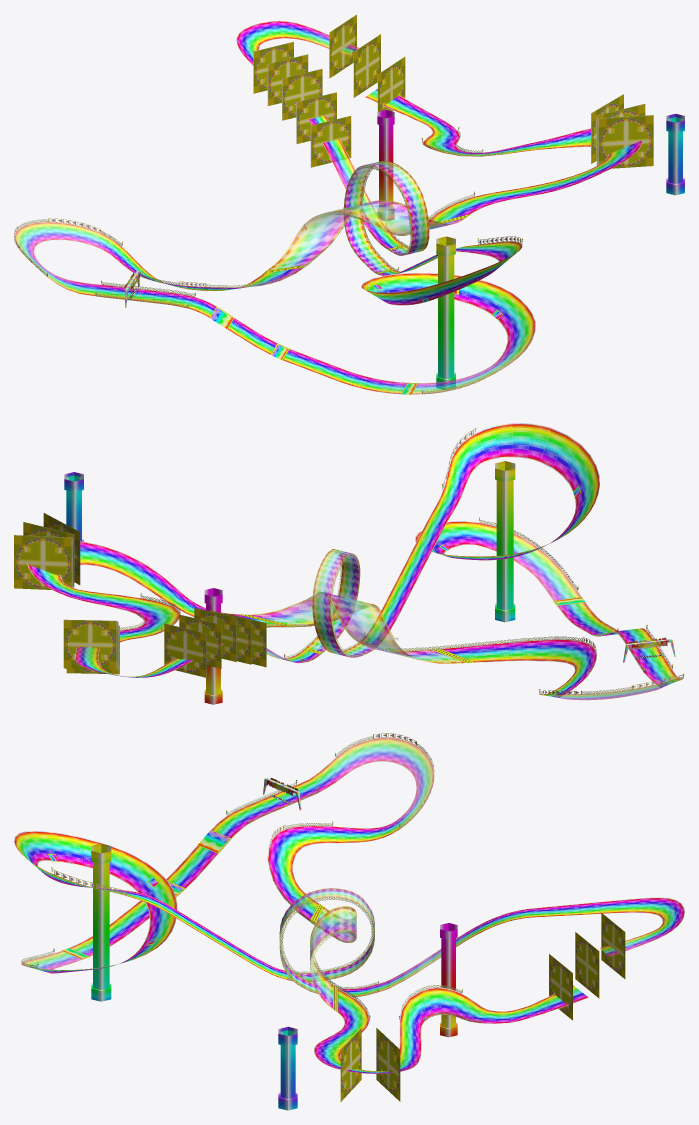
The model's file is new_ds_rainbow_road.dae.
3 views of the same model, one above another, from view 1: azimuth 30°, elevation 25°; view 2: azimuth 150°, elevation 25°; view 3: azimuth 270°, elevation 25° (orthographic). The views are drawn at different scales.
Parts seen in each view (by area): view 1: track, rings, loop, roll, railing, green_pipe, red_pipe, blue_pipe, boost; view 2: track, rings, roll, loop, green_pipe, railing, red_pipe, blue_pipe, arrows; view 3: track, rings, railing, green_pipe, roll, loop, blue_pipe, red_pipe, boost, arrows.
Part boxes in pixels (box(x1,y1,x2,y2)): track: box(14, 20, 642, 394); rings: box(253, 14, 653, 168); loop: box(344, 161, 429, 272); roll: box(267, 200, 464, 270); railing: box(18, 129, 532, 394); green_pipe: box(436, 236, 455, 389); red_pipe: box(377, 110, 394, 221); blue_pipe: box(666, 113, 684, 195); boost: box(210, 284, 501, 394); track: box(27, 423, 683, 700); rings: box(14, 513, 266, 677); roll: box(249, 593, 465, 663); loop: box(303, 549, 374, 657); green_pipe: box(495, 461, 515, 622); railing: box(120, 520, 683, 694); red_pipe: box(204, 588, 222, 704); blue_pipe: box(64, 472, 83, 541); arrows: box(443, 429, 672, 694); track: box(14, 737, 684, 1073); rings: box(340, 913, 625, 1101); railing: box(21, 736, 480, 1023); green_pipe: box(91, 843, 111, 1001); roll: box(310, 906, 356, 1008); loop: box(279, 888, 374, 993); blue_pipe: box(278, 1026, 297, 1110); red_pipe: box(440, 923, 457, 1037); boost: box(49, 830, 230, 967); arrows: box(52, 733, 433, 896).
Bounding box in the file's own units: 78.34 × 71.22 × 18.3.
Materials: 22 (22 with a texture image).
